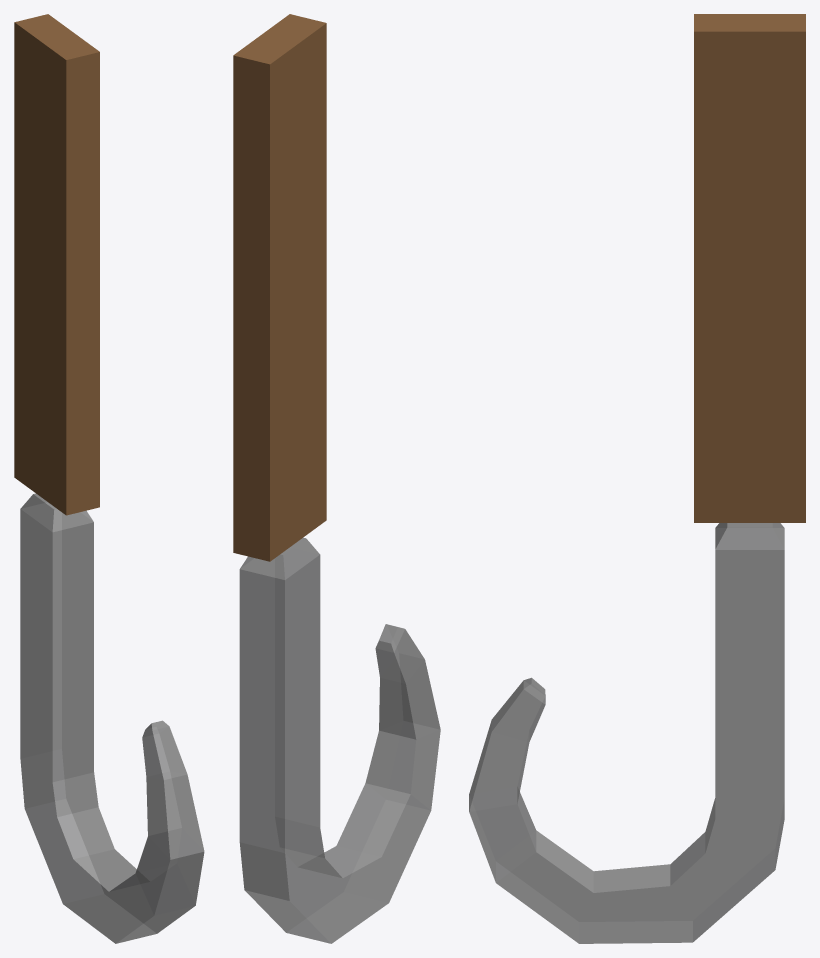
Rendered from Hook.glb.
3 views of the same model, side by side, from view 1: azimuth 30°, elevation 25°; view 2: azimuth 150°, elevation 25°; view 3: azimuth 270°, elevation 25° (orthographic). The views are drawn at different scales.
Visible parts, largest first — view 1: Hook, Plank; view 2: Hook, Plank; view 3: Plank, Hook.
Part boxes in pixels (box(x1,y1,x2,y2)): Hook: box(20, 493, 204, 943); Plank: box(14, 14, 99, 515); Hook: box(239, 537, 440, 943); Plank: box(233, 14, 326, 561); Plank: box(694, 14, 805, 522); Hook: box(469, 523, 784, 943).
Size of the model in its own units: 0.2158 by 4.19 by 1.4.
